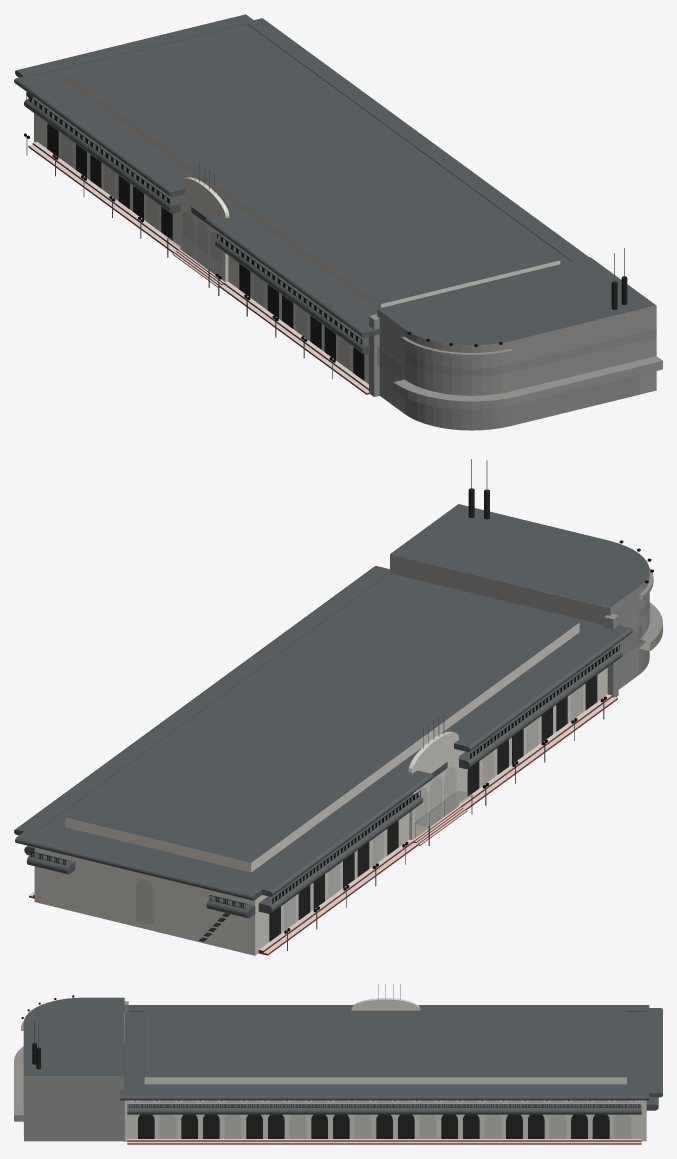
File: SM_SportsHall_Simple.glb
3 renders of one model, top to bottom at view 1: azimuth 30°, elevation 25°; view 2: azimuth 150°, elevation 25°; view 3: azimuth 270°, elevation 25°, orthographic. The views are drawn at different scales.
Parts seen in each view (by area): view 1: SM_SportsHall_Simple_LM, SM_SportsHall_Simple_NB, SM_SportsHall_Simple_VC; view 2: SM_SportsHall_Simple_LM, SM_SportsHall_Simple_NB, SM_SportsHall_Simple_VC; view 3: SM_SportsHall_Simple_LM, SM_SportsHall_Simple_NB, SM_SportsHall_Simple_VC.
Boxes of the visible parts, bbox=[...] form: SM_SportsHall_Simple_LM: bbox=[14, 14, 662, 430]; SM_SportsHall_Simple_NB: bbox=[62, 135, 655, 429]; SM_SportsHall_Simple_VC: bbox=[24, 95, 624, 379]; SM_SportsHall_Simple_LM: bbox=[14, 488, 662, 955]; SM_SportsHall_Simple_NB: bbox=[136, 602, 648, 929]; SM_SportsHall_Simple_VC: bbox=[29, 459, 653, 952]; SM_SportsHall_Simple_LM: bbox=[14, 997, 662, 1144]; SM_SportsHall_Simple_NB: bbox=[140, 1101, 630, 1138]; SM_SportsHall_Simple_VC: bbox=[21, 984, 639, 1107].
Size of the model in its own units: 44.85 by 24.01 by 132.
